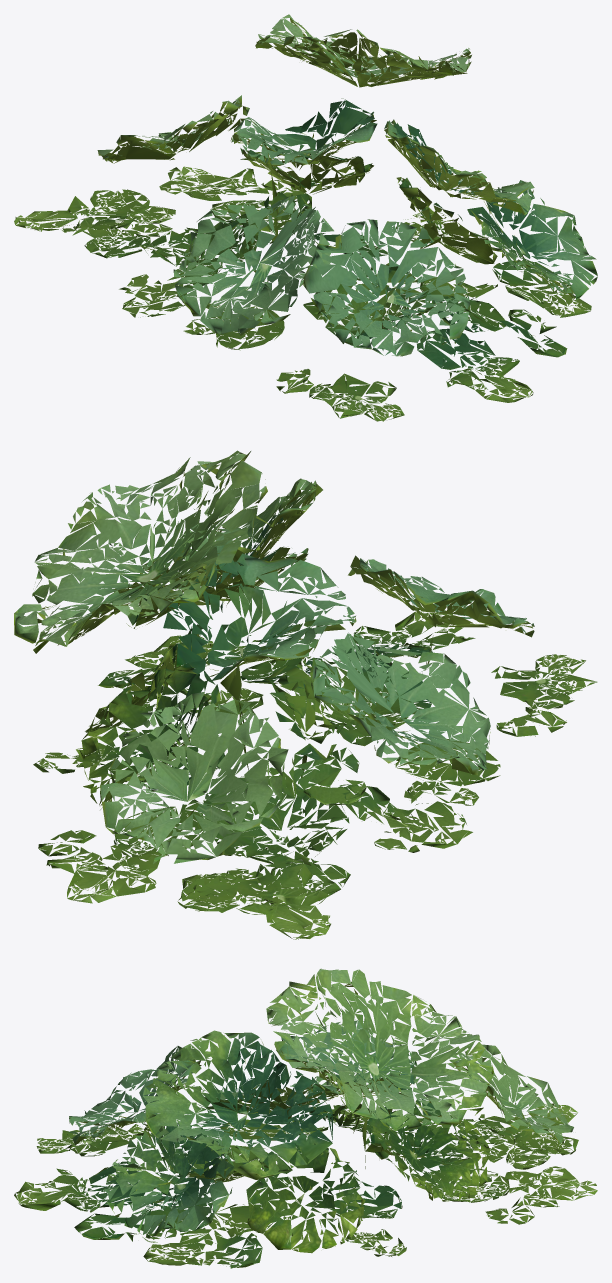
The model's file is lotus_pads.gltf.
3 views of the same model, one above another, from view 1: azimuth 30°, elevation 25°; view 2: azimuth 150°, elevation 25°; view 3: azimuth 270°, elevation 25° (orthographic). The views are drawn at different scales.
Parts seen in each view (by area): view 1: Object_4; view 2: Object_4; view 3: Object_4.
Part boxes in pixels (x1=…): Object_4: x1=14, y1=14, x2=597, y2=421; Object_4: x1=14, y1=450, x2=597, y2=939; Object_4: x1=14, y1=968, x2=597, y2=1268.
Size of the model in its own units: 0.6449 by 0.4248 by 0.9753.
1 material, 1 textured.
